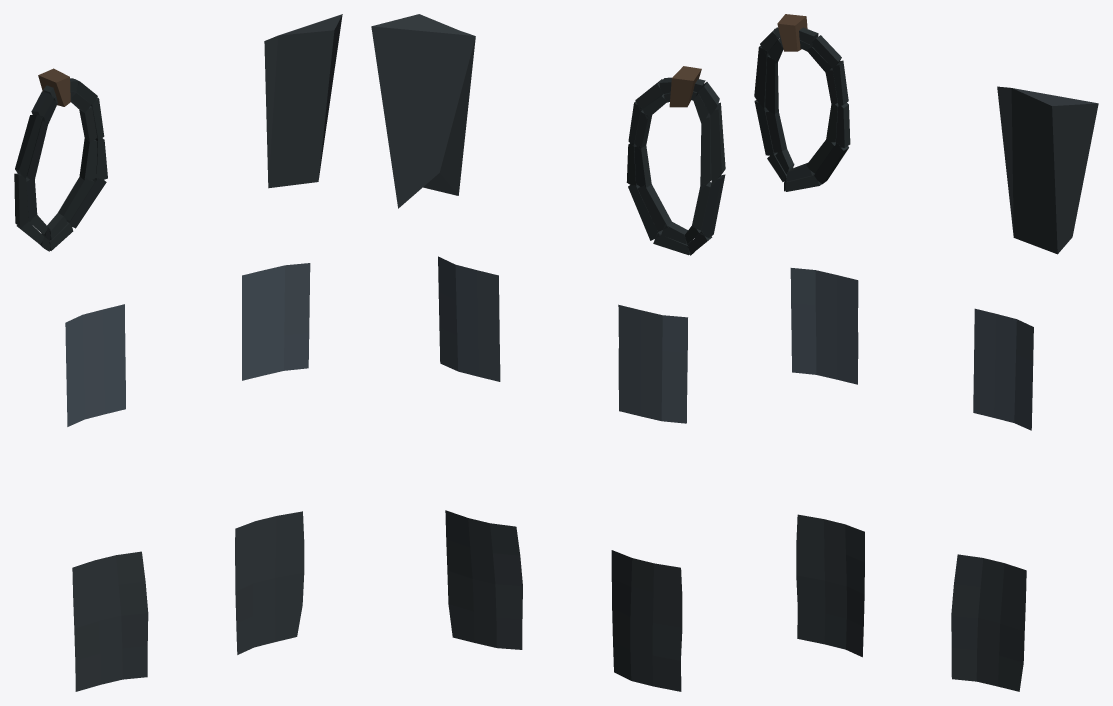
File: lwf_sound_male_overlay_v2.glb
The picture shows the model from 3 angles, left to right: view 1: azimuth 30°, elevation 25°; view 2: azimuth 150°, elevation 25°; view 3: azimuth 330°, elevation 25°; orthographic projection. The views are drawn at different scales.
Parts seen in each view (by area): view 1: LWF_Sound_Male_Overlay; view 2: LWF_Sound_Male_Overlay; view 3: LWF_Sound_Male_Overlay.
Part boxes in pixels (<box>): LWF_Sound_Male_Overlay: <box>14,14,342,691</box>; LWF_Sound_Male_Overlay: <box>371,14,725,691</box>; LWF_Sound_Male_Overlay: <box>754,14,1098,691</box>.
Size of the model in its own units: 0.3324 by 0.582 by 0.0637.
Materials: 1 (1 with a texture image).
